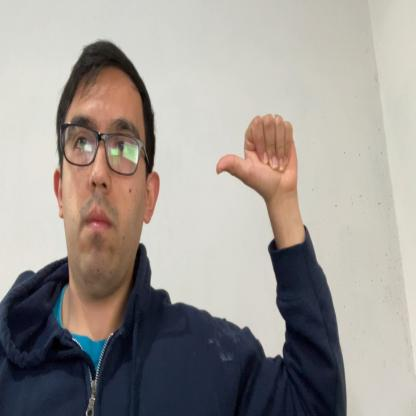A: (215, 111, 299, 197)
